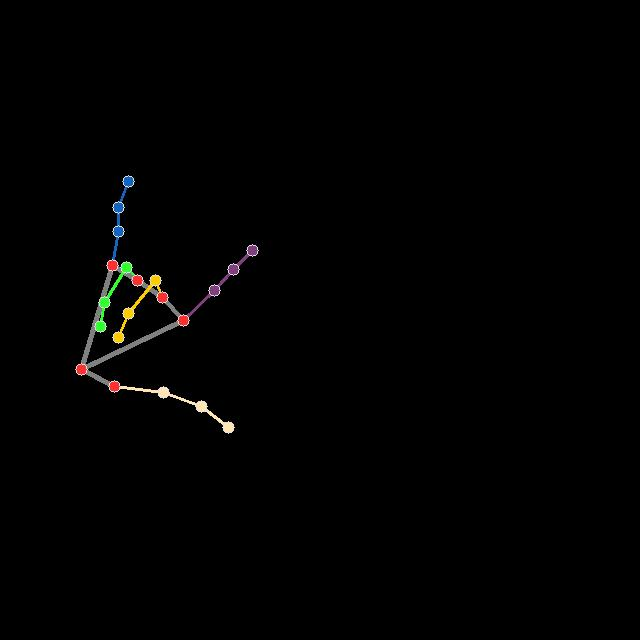spiderman: (76, 176, 261, 432)
